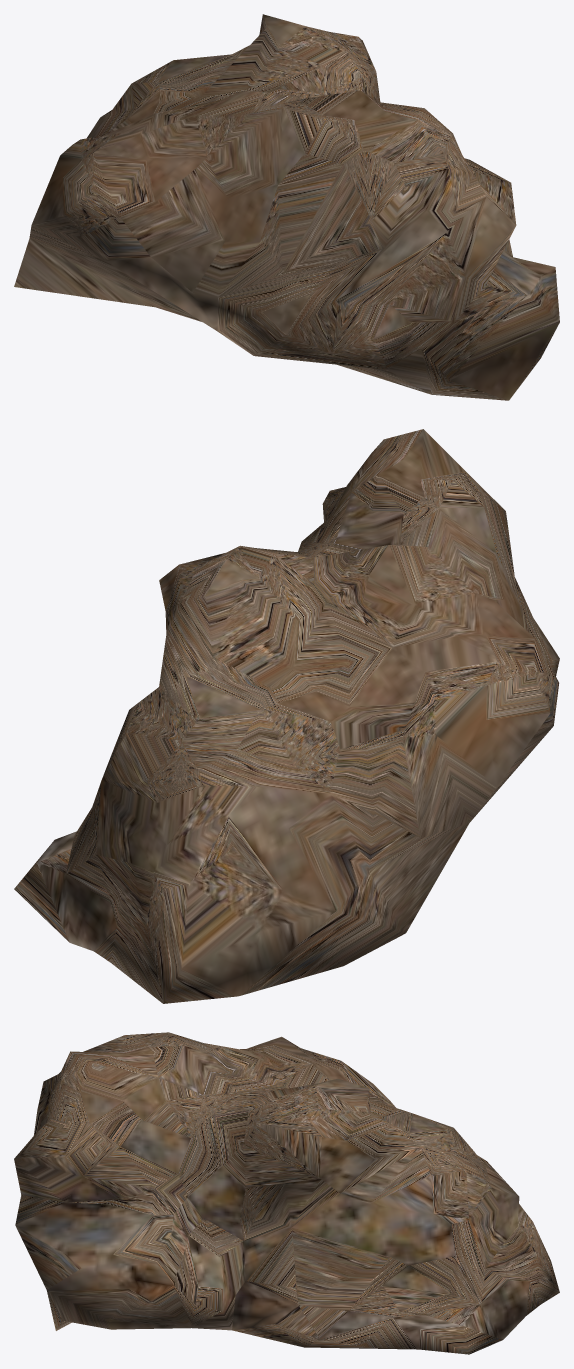
3 renders of one model, top to bottom at view 1: azimuth 30°, elevation 25°; view 2: azimuth 150°, elevation 25°; view 3: azimuth 270°, elevation 25°, orthographic. The views are drawn at different scales.
Visible parts, largest first — view 1: boulder_01_lod2; view 2: boulder_01_lod2; view 3: boulder_01_lod2.
Part boxes in pixels (x1,y1,x2,y2): boulder_01_lod2: (14, 14, 559, 400); boulder_01_lod2: (14, 429, 559, 1003); boulder_01_lod2: (14, 1032, 559, 1354).
Bounding box in the file's own units: 1.23 × 0.9539 × 1.79.
Materials: 1 (1 with a texture image).
